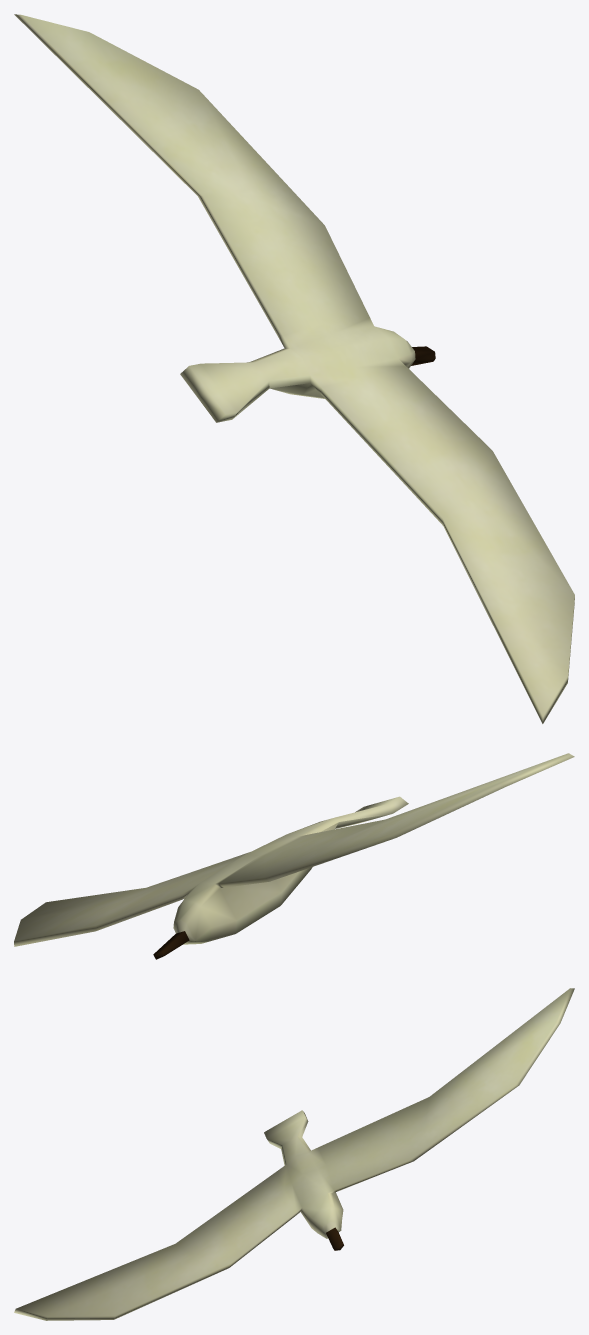
Rendered from Bird1.glb.
3 views of the same model, one above another, from view 1: azimuth 30°, elevation 25°; view 2: azimuth 210°, elevation 25°; view 3: azimuth 270°, elevation 25° (orthographic). The views are drawn at different scales.
Parts seen in each view (by area): view 1: Cube.038; view 2: Cube.038; view 3: Cube.038.
Boxes of the visible parts, <box> form: Cube.038: <box>14,14,574,723</box>; Cube.038: <box>14,753,574,959</box>; Cube.038: <box>14,988,574,1320</box>.
Size of the model in its own units: 0.0234 by 0.0345 by 0.0606.
1 material, 1 textured.
